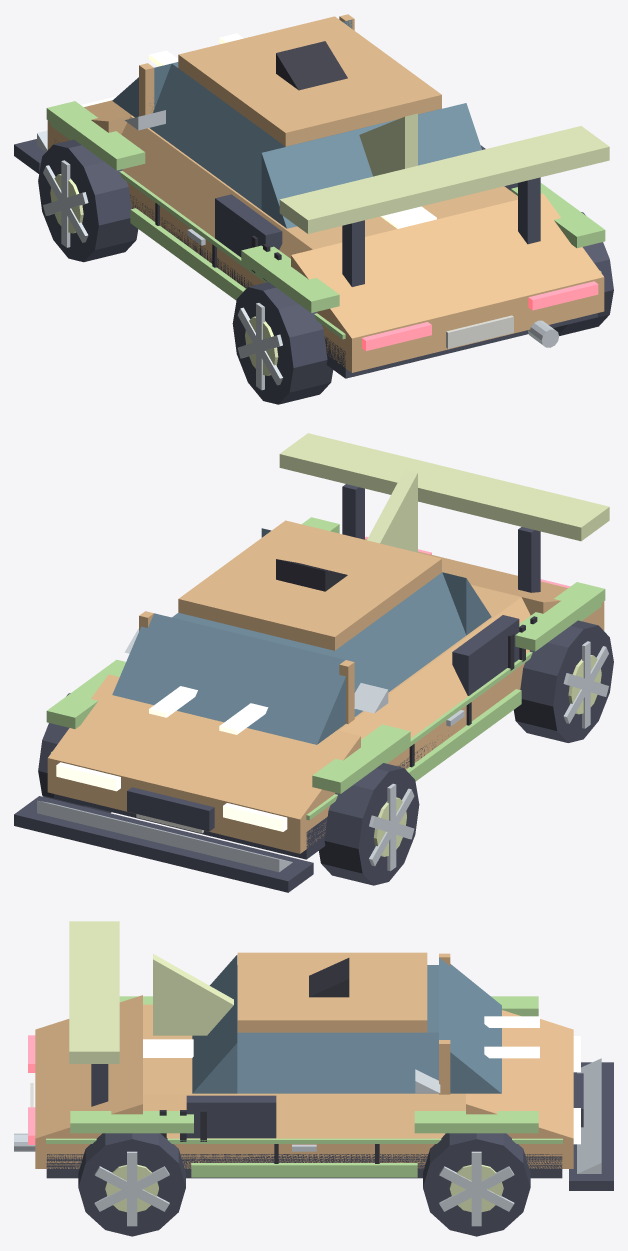
File: curb_cutter.glb
The picture shows the model from 3 angles, top to bottom: view 1: azimuth 30°, elevation 25°; view 2: azimuth 150°, elevation 25°; view 3: azimuth 270°, elevation 25°; orthographic projection. The views are drawn at different scales.
Parts seen in each view (by area): view 1: Tail.085, Roof.285, RearWing.048, Body.285, RearWindow.185, CabinSideL.082, Wheel_FL.245, Wheel_RL.245, ShoulderL.082, BodyUpper.082, Arch-1False.161, Arch-1True.161 (+26 smaller); view 2: Nose.082, Roof.285, Windshield.185, RearWing.048, CabinSideL.082, Body.285, Splitter.052, Wheel_FL.245, Wheel_RL.245, ShoulderL.082, Bumper.281, AirIntake-1.048 (+26 smaller); view 3: Roof.285, CabinSideR.082, Tail.085, ShoulderR.082, Nose.082, RearWing.048, Body.285, Wheel_FR.245, Wheel_RR.245, Windshield.185, DorsalFin.024, Sill.281 (+26 smaller).
Part boxes in pixels (x1=…): Tail.085: x1=291, y1=193, x2=603, y2=338; Roof.285: x1=178, y1=16, x2=441, y2=146; RearWing.048: x1=279, y1=126, x2=609, y2=233; Body.285: x1=47, y1=120, x2=604, y2=372; RearWindow.185: x1=261, y1=103, x2=481, y2=228; CabinSideL.082: x1=150, y1=64, x2=285, y2=209; Wheel_FL.245: x1=38, y1=139, x2=138, y2=262; Wheel_RL.245: x1=232, y1=282, x2=333, y2=404; ShoulderL.082: x1=121, y1=116, x2=312, y2=258; BodyUpper.082: x1=131, y1=115, x2=517, y2=249; Arch-1False.161: x1=46, y1=101, x2=145, y2=170; Arch-1True.161: x1=241, y1=245, x2=339, y2=312; Nose.082: x1=48, y1=674, x2=360, y2=819; Roof.285: x1=178, y1=520, x2=441, y2=650; Windshield.185: x1=112, y1=613, x2=345, y2=744; RearWing.048: x1=279, y1=433, x2=609, y2=541; CabinSideL.082: x1=328, y1=572, x2=466, y2=716; Body.285: x1=47, y1=601, x2=604, y2=853; Splitter.052: x1=14, y1=796, x2=313, y2=892; Wheel_FL.245: x1=319, y1=763, x2=419, y2=885; Wheel_RL.245: x1=513, y1=620, x2=613, y2=742; ShoulderL.082: x1=339, y1=597, x2=530, y2=739; Bumper.281: x1=37, y1=800, x2=292, y2=872; AirIntake-1.048: x1=452, y1=615, x2=519, y2=695; Roof.285: x1=237, y1=952, x2=427, y2=1032; CabinSideR.082: x1=237, y1=1032, x2=438, y2=1093; Tail.085: x1=35, y1=995, x2=142, y2=1138; ShoulderR.082: x1=143, y1=1094, x2=465, y2=1138; Nose.082: x1=466, y1=1010, x2=573, y2=1138; RearWing.048: x1=69, y1=921, x2=119, y2=1063; Body.285: x1=35, y1=1138, x2=573, y2=1168; Wheel_FR.245: x1=423, y1=1133, x2=530, y2=1236; Wheel_RR.245: x1=78, y1=1133, x2=185, y2=1236; Windshield.185: x1=439, y1=957, x2=501, y2=1093; DorsalFin.024: x1=153, y1=954, x2=233, y2=1035; Sill.281: x1=46, y1=1154, x2=562, y2=1178.
Size of the model in its own units: 3 by 2.08 by 5.35.
